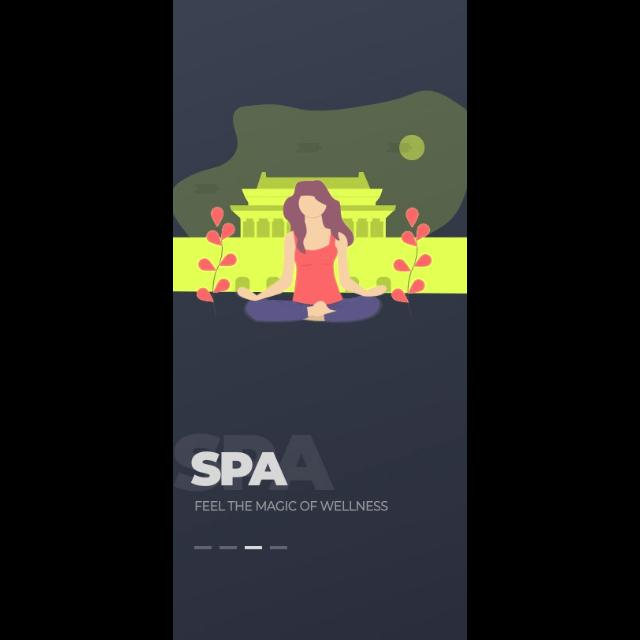image: (175, 92, 468, 324)
pageindicator: (195, 546, 288, 550)
text: (192, 450, 288, 488), (195, 501, 389, 512)
